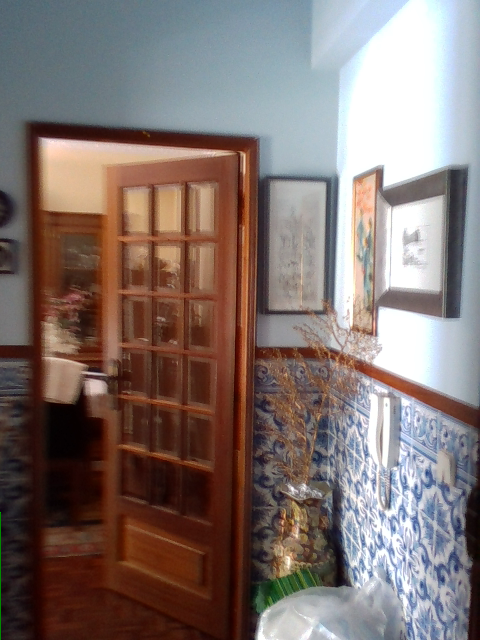semi: (26, 120, 259, 639)
